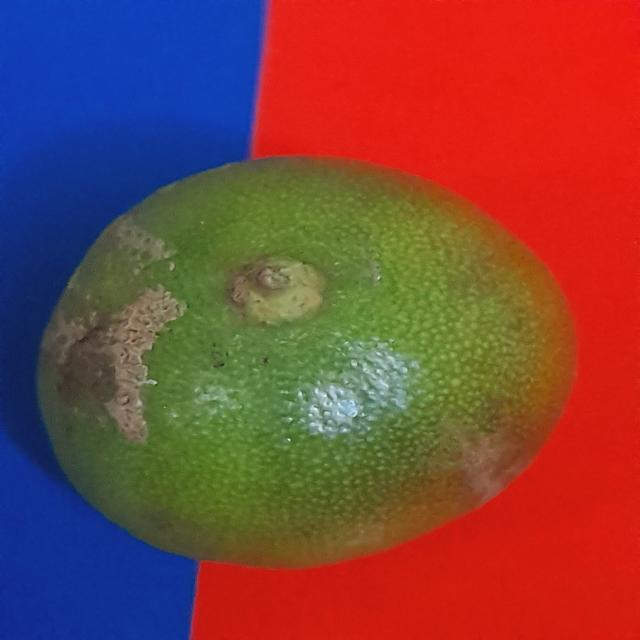thrips: (32, 157, 565, 573)
